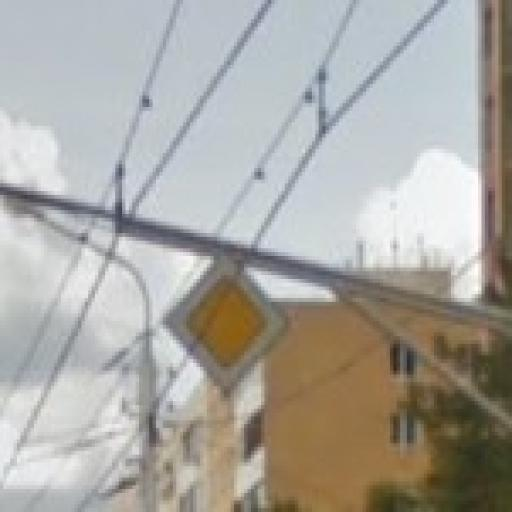traffic_sign: (161, 253, 293, 406)
